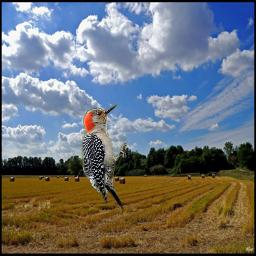Woodpecker: (78, 101, 127, 218)
